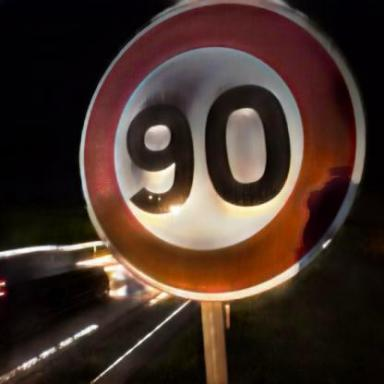Speed_limit_90: (78, 8, 354, 289)
